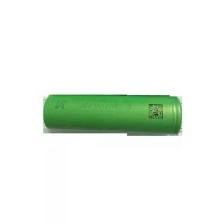battery: (36, 90, 188, 141)
